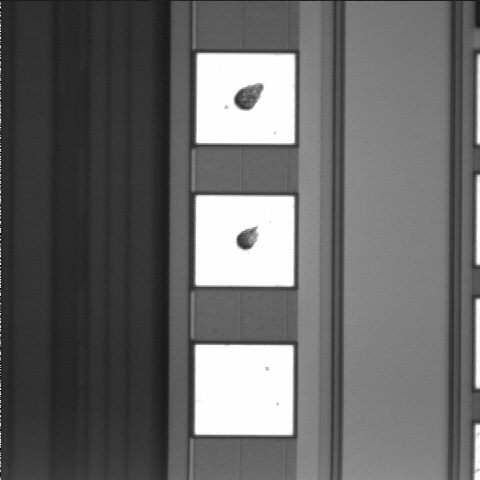pad: (196, 53, 295, 144), (196, 195, 294, 286), (195, 345, 293, 435)
